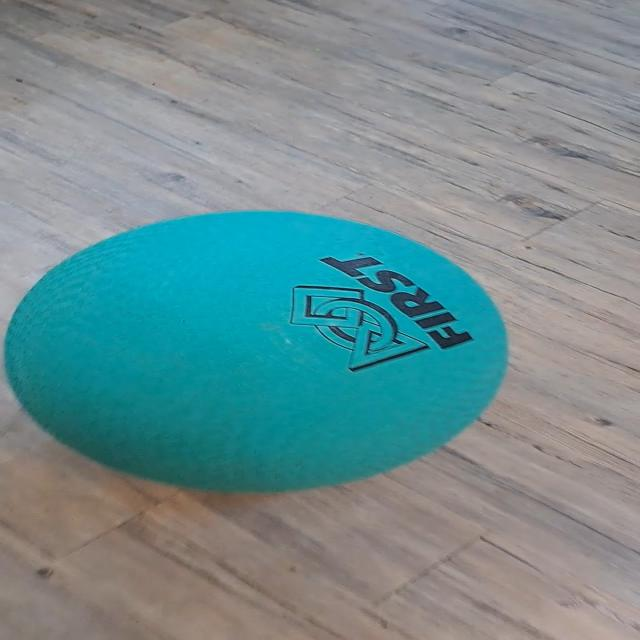ALGAE: (3, 208, 510, 496)
